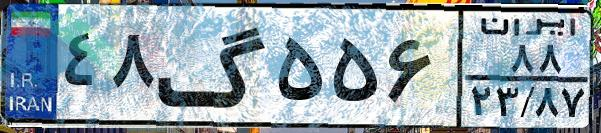2: (470, 70, 495, 125)
3: (495, 70, 520, 125)
4: (57, 26, 110, 100)
5: (270, 28, 330, 110), (330, 28, 385, 110)
6: (385, 28, 445, 110)
7: (560, 70, 590, 125)
8: (110, 28, 156, 98), (537, 27, 568, 80), (508, 27, 537, 80), (535, 70, 560, 125)
گ: (156, 12, 270, 120)
